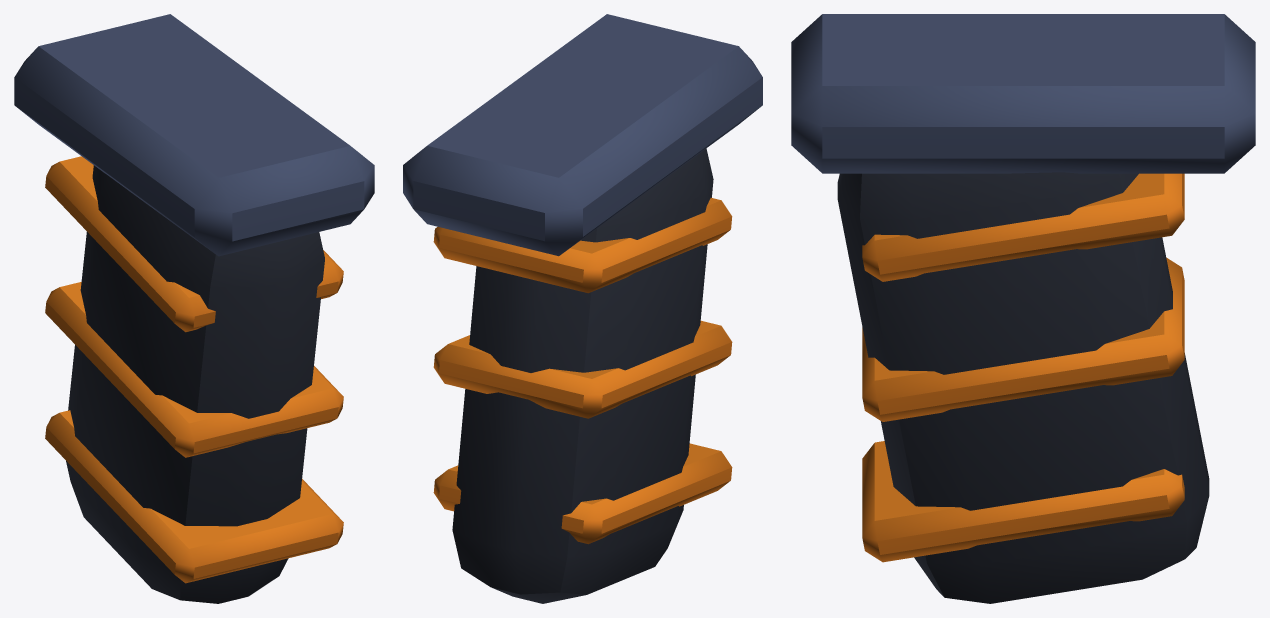
File: mod_grip.glb
3 views of the same model, side by side, from view 1: azimuth 30°, elevation 25°; view 2: azimuth 150°, elevation 25°; view 3: azimuth 270°, elevation 25° (orthographic). The views are drawn at different scales.
Visible parts, largest first — view 1: body; view 2: body; view 3: body.
Part boxes in pixels (x1=…): body: x1=14, y1=14, x2=374, y2=603; body: x1=403, y1=14, x2=762, y2=603; body: x1=791, y1=14, x2=1255, y2=603.
Bounding box in the file's own units: 0.06 × 0.1549 × 0.12.
